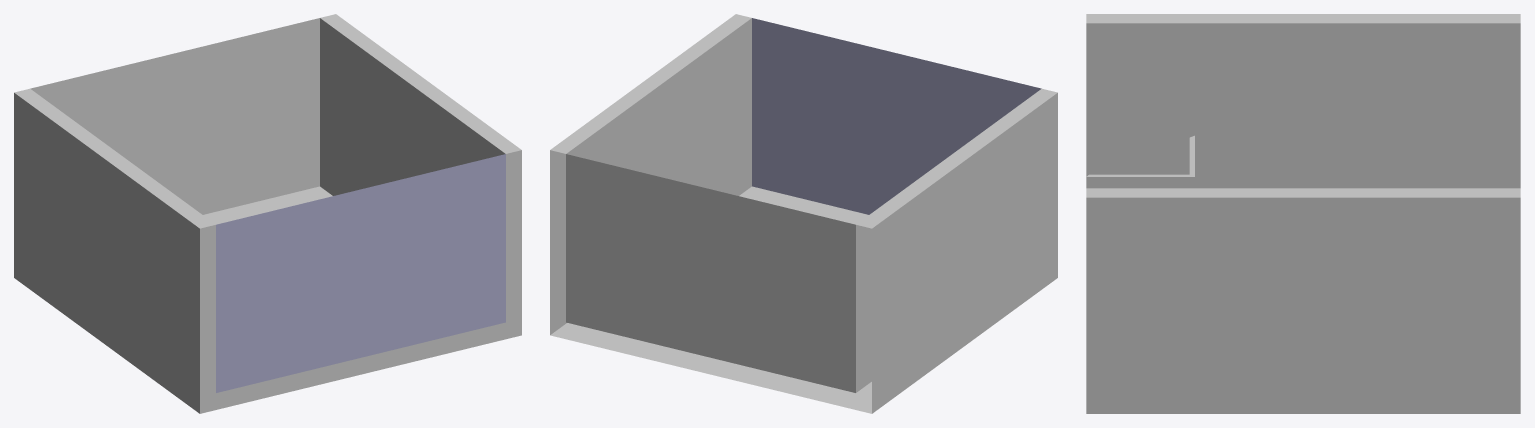
File: playarea0.fbx
The picture shows the model from 3 angles, left to right: view 1: azimuth 30°, elevation 25°; view 2: azimuth 150°, elevation 25°; view 3: azimuth 270°, elevation 25°; orthographic projection. The views are drawn at different scales.
Visible parts, largest first — view 1: clawingarea; view 2: clawingarea; view 3: clawingarea.
Part boxes in pixels (x1,y1,x2,y2): clawingarea: [14, 14, 521, 413]; clawingarea: [550, 14, 1057, 413]; clawingarea: [1086, 14, 1520, 413].
Bounding box in the file's own units: 200 × 110 × 200.
